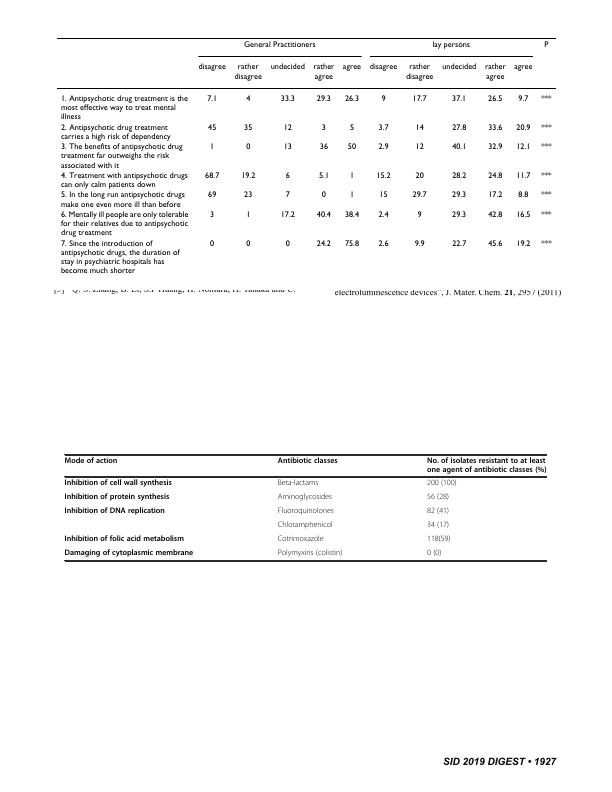borderless: (55, 36, 557, 284), (63, 453, 546, 560)
cell: (59, 239, 180, 276), (59, 210, 189, 238), (59, 94, 188, 122), (59, 142, 183, 171), (59, 190, 185, 210), (59, 171, 188, 190), (426, 457, 547, 475), (59, 123, 171, 142), (64, 549, 194, 559), (64, 535, 185, 545), (64, 479, 173, 489), (64, 493, 170, 503), (64, 507, 166, 517), (242, 40, 316, 50), (277, 549, 343, 559), (277, 507, 335, 517), (404, 63, 434, 82), (277, 493, 333, 503), (277, 521, 333, 531), (277, 457, 339, 466), (233, 63, 262, 82), (64, 457, 118, 466), (277, 535, 324, 545), (312, 63, 335, 82), (483, 63, 506, 82), (277, 479, 319, 489), (431, 40, 470, 50), (269, 63, 305, 72), (441, 63, 477, 72), (426, 479, 457, 489), (368, 63, 398, 72), (197, 63, 226, 72), (426, 535, 451, 545), (426, 493, 450, 503), (426, 507, 450, 517), (426, 521, 450, 531), (341, 63, 362, 72), (513, 63, 533, 72), (343, 210, 360, 220), (343, 239, 360, 249), (426, 549, 442, 559), (279, 94, 295, 104), (315, 94, 331, 104), (343, 94, 359, 104), (411, 94, 427, 104), (451, 94, 467, 104), (487, 94, 503, 104), (451, 123, 467, 133), (487, 123, 503, 133), (515, 123, 531, 133), (451, 142, 467, 152), (487, 142, 503, 152), (515, 142, 531, 152), (204, 171, 220, 181), (240, 171, 256, 181), (375, 171, 391, 181), (451, 171, 467, 181), (487, 171, 503, 181), (515, 171, 531, 181), (411, 190, 427, 200), (451, 190, 467, 200), (487, 190, 503, 200), (279, 210, 295, 220), (315, 210, 331, 220), (451, 210, 467, 220), (487, 210, 503, 220), (515, 210, 531, 220), (315, 239, 331, 249), (451, 239, 467, 249), (487, 239, 503, 249), (515, 239, 531, 249), (206, 94, 218, 104), (517, 94, 529, 104), (540, 94, 552, 104), (377, 123, 389, 133), (540, 123, 552, 133), (377, 142, 389, 152), (540, 142, 552, 152), (317, 171, 329, 181), (540, 171, 552, 181), (517, 190, 529, 200), (540, 190, 552, 200), (377, 210, 389, 220), (540, 210, 552, 220), (377, 239, 389, 249), (413, 239, 425, 249), (540, 239, 552, 249), (318, 142, 329, 152), (346, 142, 357, 152), (207, 123, 217, 133), (243, 123, 253, 133), (282, 123, 292, 133), (414, 123, 424, 133), (282, 142, 292, 152), (414, 142, 424, 152), (414, 171, 424, 181), (207, 190, 217, 200), (243, 190, 253, 200), (378, 190, 388, 200), (348, 123, 355, 133), (348, 171, 355, 181), (348, 190, 355, 200), (543, 40, 549, 50), (245, 94, 251, 104), (380, 94, 386, 104), (320, 123, 326, 133), (209, 142, 215, 152), (245, 142, 251, 152), (284, 171, 290, 181), (284, 190, 290, 200), (320, 190, 326, 200), (209, 210, 215, 220), (245, 210, 251, 220), (416, 210, 422, 220), (209, 239, 215, 249), (245, 239, 251, 249), (284, 239, 290, 249)
